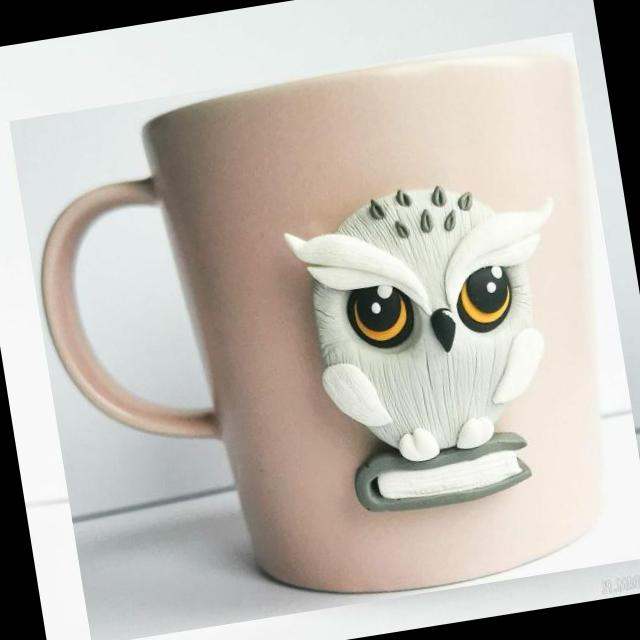Coffee Mug: (14, 35, 640, 639)
